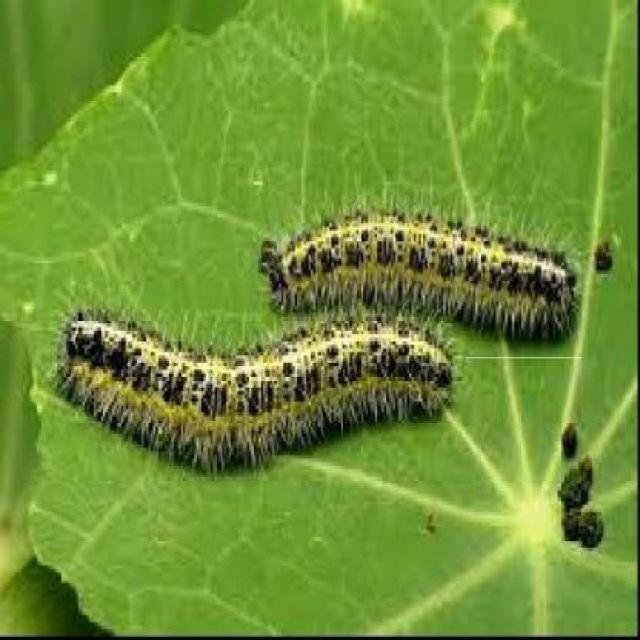pest: (67, 306, 461, 464), (277, 215, 581, 321)
